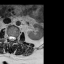CCS_normal: (11, 33, 13, 43)
LFS_normal: (15, 34, 17, 41)
LLS_normal: (13, 34, 15, 42)
RFS_normal: (7, 32, 9, 40)
RLS_normal: (9, 33, 11, 41)
